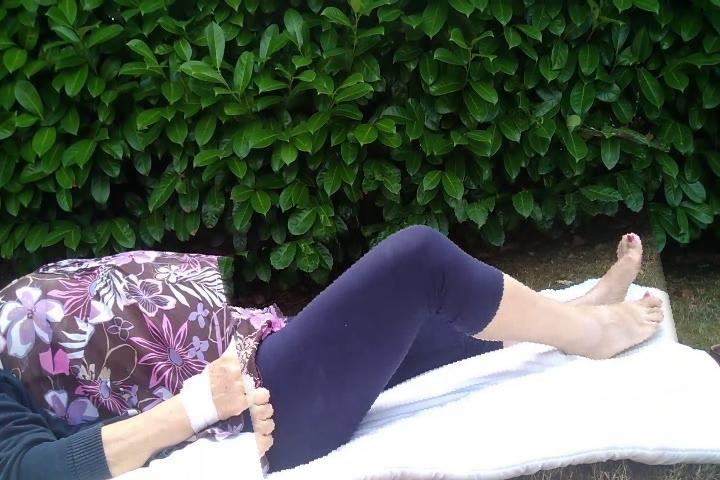lower_body: (228, 190, 680, 462)
